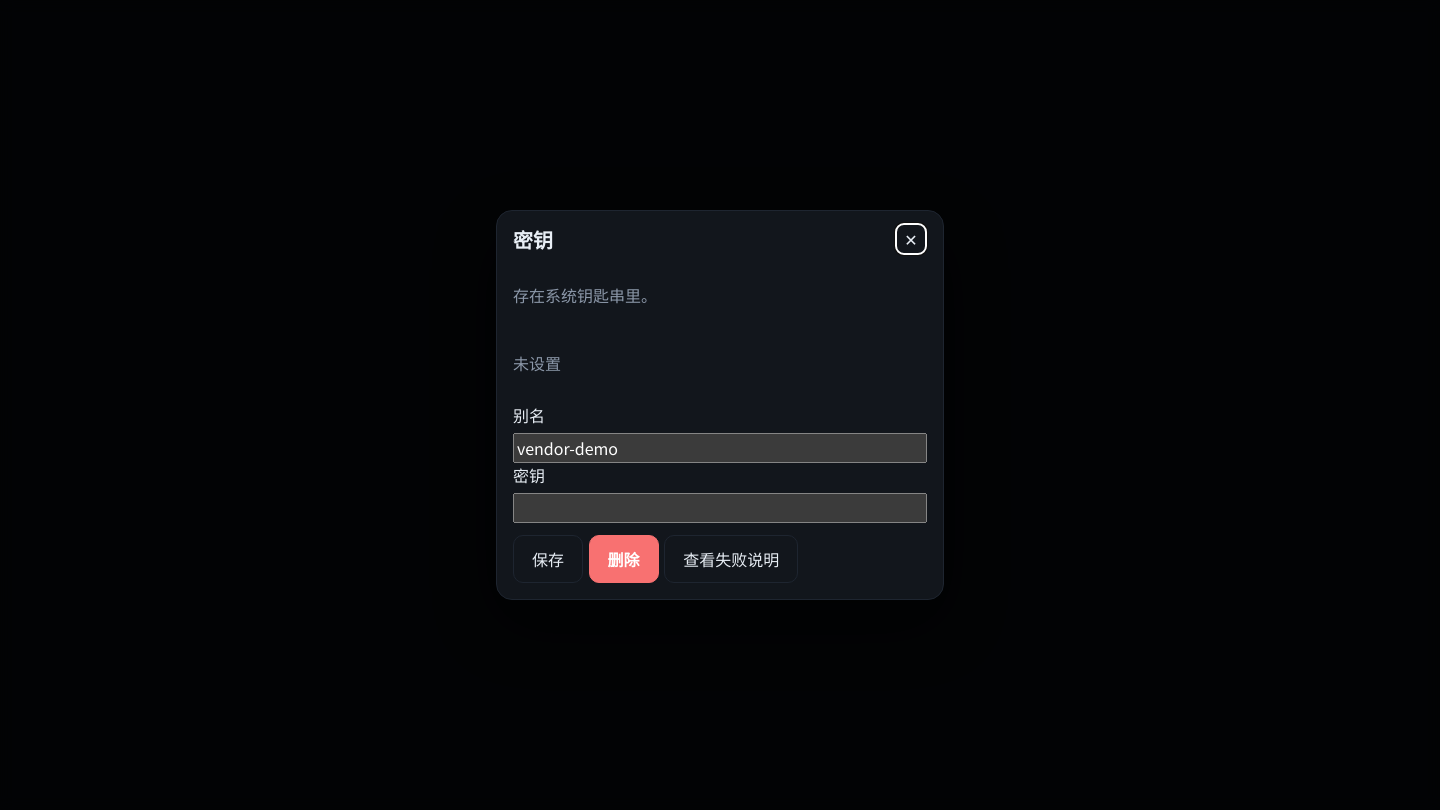
it: secret vault panel › shows 已设置 after a save and prints a redacted failure
Check: the text with test id "secret-status" reads "未设置", box [513,351,561,375]
In the password field with test id "secret-value": (720, 508) [513,493,927,523], type "alphaloop-test-secret-9f3a"
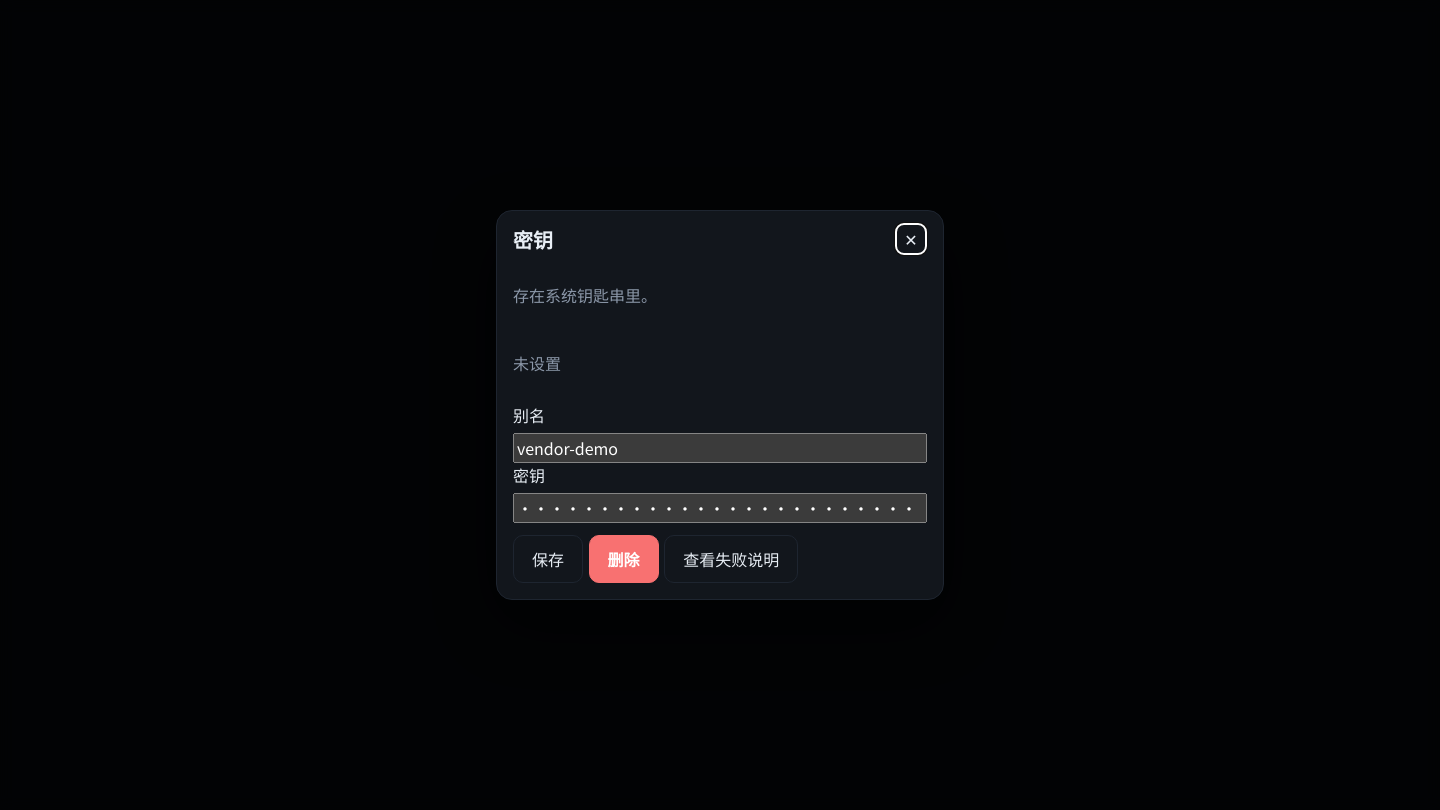
Click the button "保存": (548, 559) [513,535,583,583]
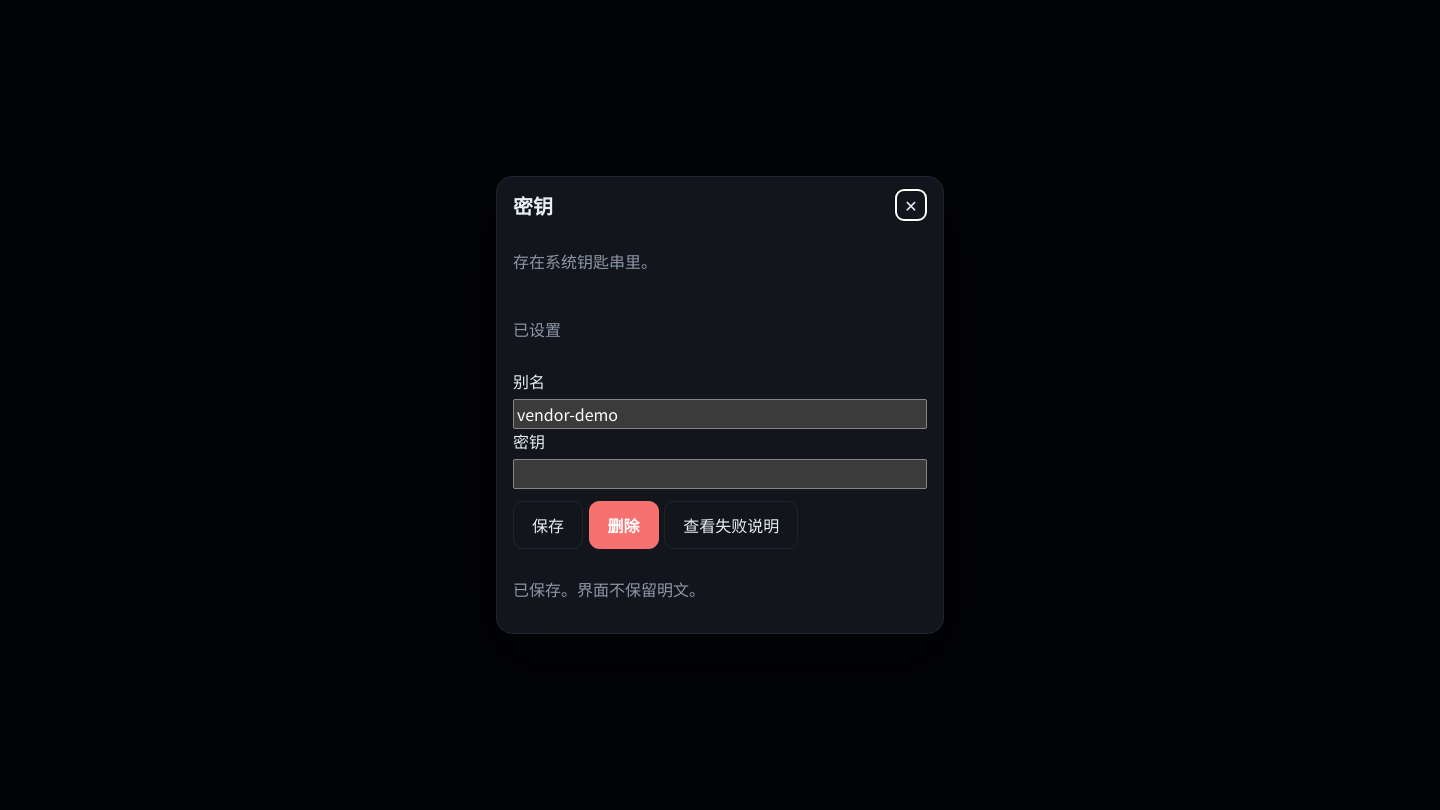
Check: the text "已保存。界面不保留明文。" is shown, box [513,577,705,601]
Check: the password field with test id "secret-value" is empty, box [513,459,927,489]
Check: the text with test id "secret-status" reads "已设置", box [513,317,561,341]
Click the button with test id "secret-failure-preview": (731, 525) [664,501,798,549]
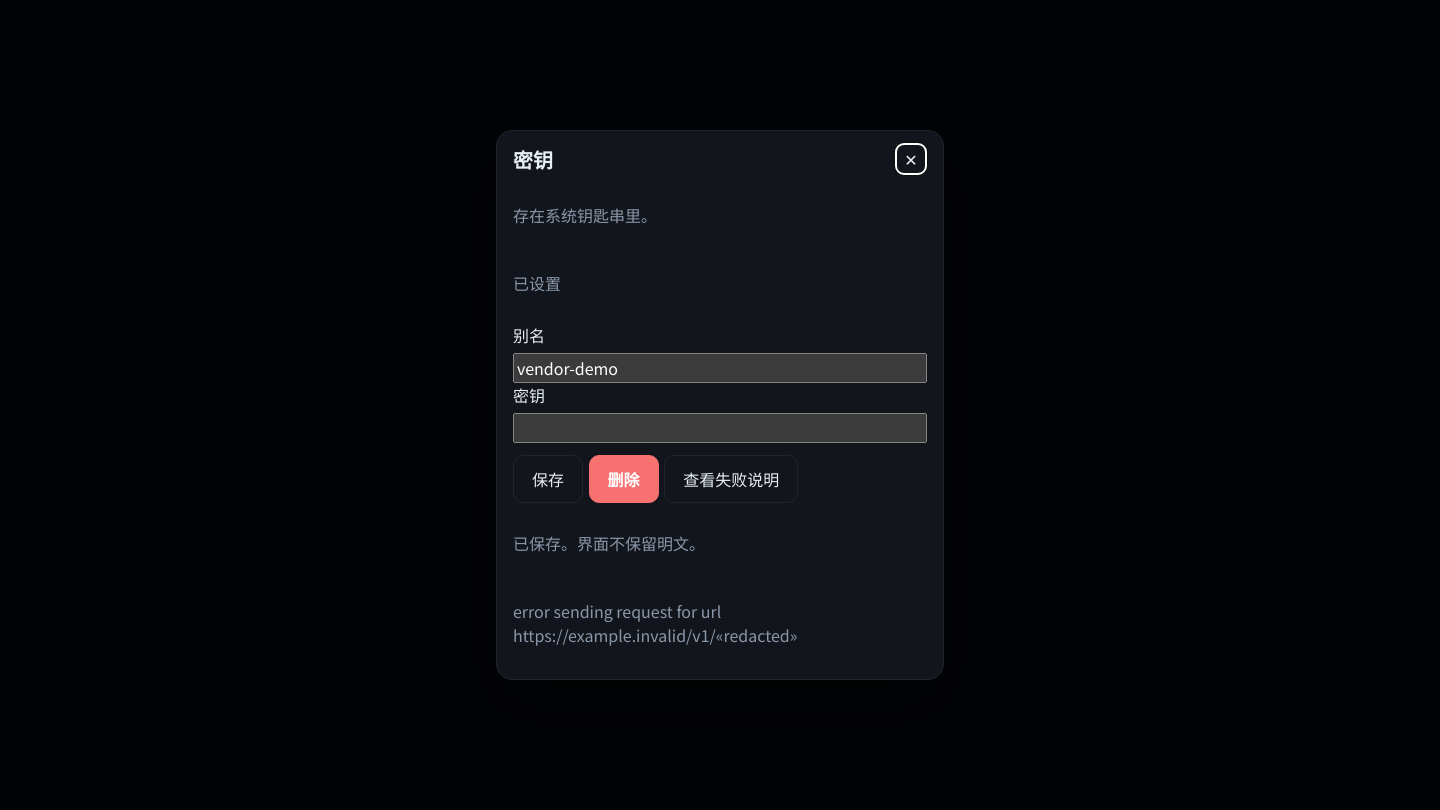
Check: the text with test id "secret-failure-text" shows "example.invalid", box [513,599,797,647]
